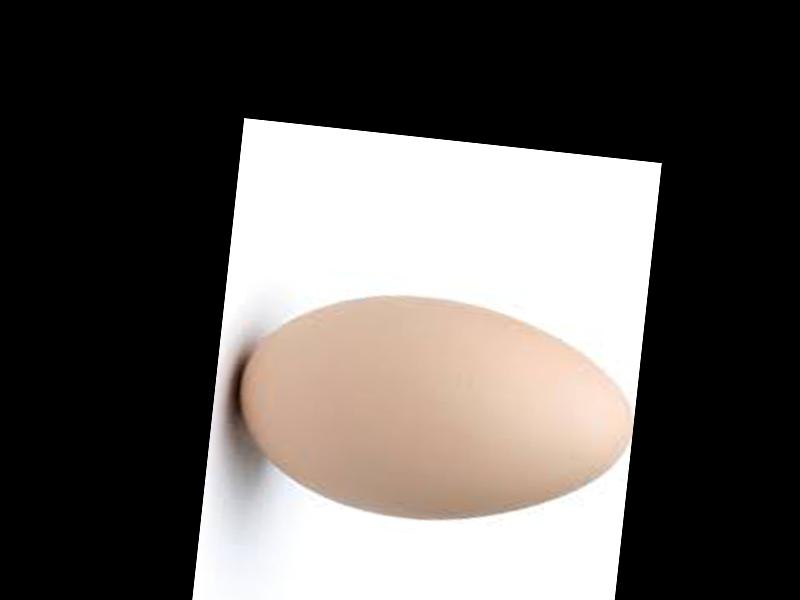Eggs: (223, 278, 641, 540)
